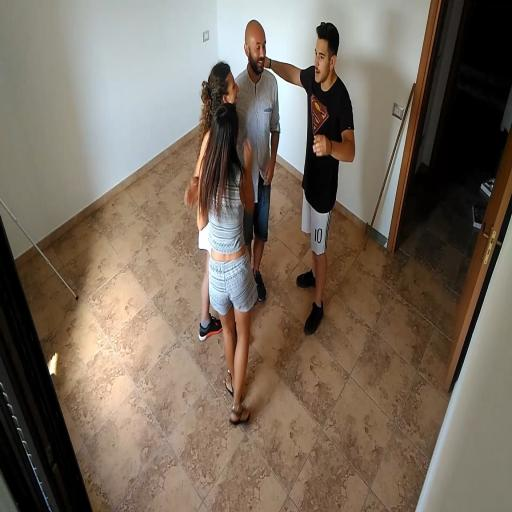nao-violencia: (178, 2, 362, 431)
